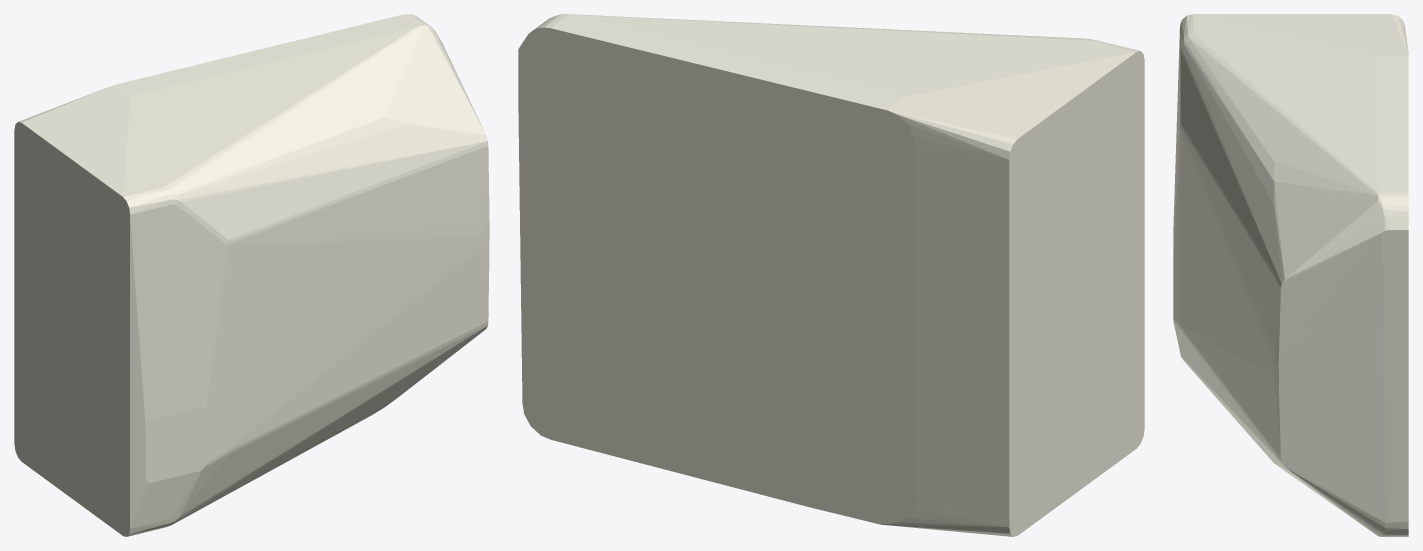
The model's file is MOTOMAN_BASE_COLLISION.dae.
The picture shows the model from 3 angles, left to right: view 1: azimuth 30°, elevation 25°; view 2: azimuth 150°, elevation 25°; view 3: azimuth 270°, elevation 25°; orthographic projection. The views are drawn at different scales.
Parts seen in each view (by area): view 1: node; view 2: node; view 3: node.
Part boxes in pixels (x1=…): node: x1=14, y1=14, x2=489, y2=536; node: x1=518, y1=14, x2=1144, y2=536; node: x1=1173, y1=14, x2=1408, y2=536.
Size of the model in its own units: 0.348 by 0.283 by 0.175.
1 material, 1 textured.
